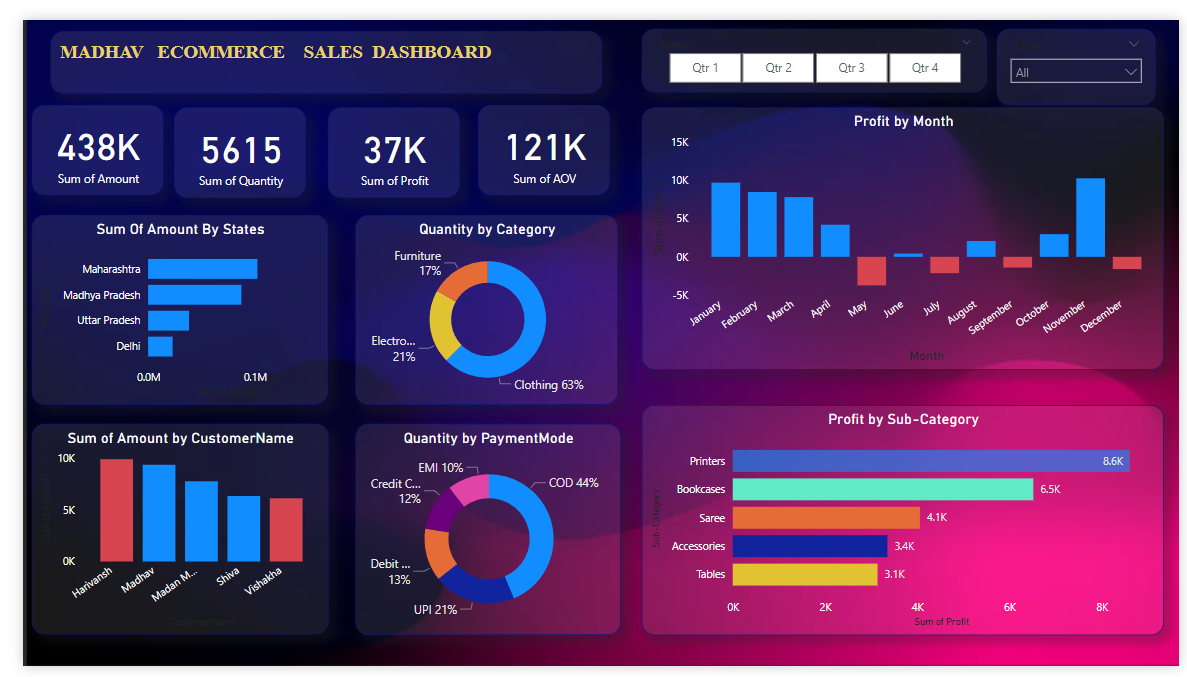

The dashboard page shown, as its layout file describes it:
{"tool":"powerbi","page":{"name":"Page 1","canvas":[1322,739],"ordinal":0},"visuals":[{"type":"textbox","box":[31.4,12.9,630,71.4],"z":0},{"type":"columnChart","title":" Profit by Month","fields":{"Y":["Details.Profit"],"Category":["Orders.Order Date.Variation.Date Hierarchy.Month"]},"box":[707.1,100,597.1,300],"z":1000},{"type":"barChart","title":" Profit by Sub-Category","fields":{"Category":["Details.Sub-Category"],"Y":["Details.Profit"]},"box":[707.1,440,597.1,262.9],"z":2000},{"type":"donutChart","title":" Quantity by Category","fields":{"Category":["Details.Category"],"Y":["Details.Quantity"]},"box":[380,222.9,300,217.1],"z":3000},{"type":"donutChart","title":" Quantity by PaymentMode","fields":{"Y":["Details.Quantity"],"Category":["Details.PaymentMode"]},"box":[380,461.4,302.9,241.4],"z":4000},{"type":"card","fields":{"Values":["Details.Profit"]},"box":[348.6,100,150,102.9],"z":5000},{"type":"card","fields":{"Values":["Details.Avg_Order_Value"]},"box":[520,97.1,150,102.9],"z":6000},{"type":"card","fields":{"Values":["Details.Quantity"]},"box":[172.9,100,150,102.9],"z":7000},{"type":"card","fields":{"Values":["Details.Amount"]},"box":[10,97.1,150,102.9],"z":8000},{"type":"barChart","title":" Sum Of Amount By States","fields":{"Category":["Orders.State"],"Y":["Details.Amount"]},"box":[10,222.9,338.6,217.1],"z":9000},{"type":"columnChart","fields":{"Category":["Orders.CustomerName"],"Y":["Details.Amount"]},"box":[10,461,339,241],"z":10000},{"type":"slicer","fields":{"Values":["Orders.Order Date.Variation.Date Hierarchy.Quarter"]},"box":[707.1,10,394.3,72.9],"z":11000},{"type":"slicer","fields":{"Values":["Orders.State"]},"box":[1112.9,10,181.4,87.1],"z":12000}]}

Visuals, with their boxes in screenshot pixels (x1, y1, x2, y2), scaled from the page's 1322x739 canvas onto the 1187x677 screenshot:
textbox: box(28, 12, 594, 77)
" Profit by Month" columnChart: box(635, 92, 1171, 366)
" Profit by Sub-Category" barChart: box(635, 403, 1171, 644)
" Quantity by Category" donutChart: box(341, 204, 611, 403)
" Quantity by PaymentMode" donutChart: box(341, 423, 613, 644)
card - Details.Profit: box(313, 92, 448, 186)
card - Details.Avg_Order_Value: box(467, 89, 602, 183)
card - Details.Quantity: box(155, 92, 290, 186)
card - Details.Amount: box(9, 89, 144, 183)
" Sum Of Amount By States" barChart: box(9, 204, 313, 403)
columnChart - Orders.CustomerName x Details.Amount: box(9, 422, 313, 643)
slicer - Orders.Order Date.Variation.Date Hierarchy.Quarter: box(635, 9, 989, 76)
slicer - Orders.State: box(999, 9, 1162, 89)
